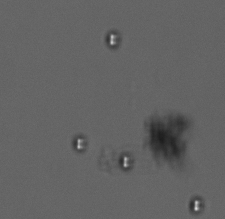Living Cell: (105, 27, 122, 50), (189, 196, 204, 214), (72, 135, 87, 152), (117, 153, 132, 169)
